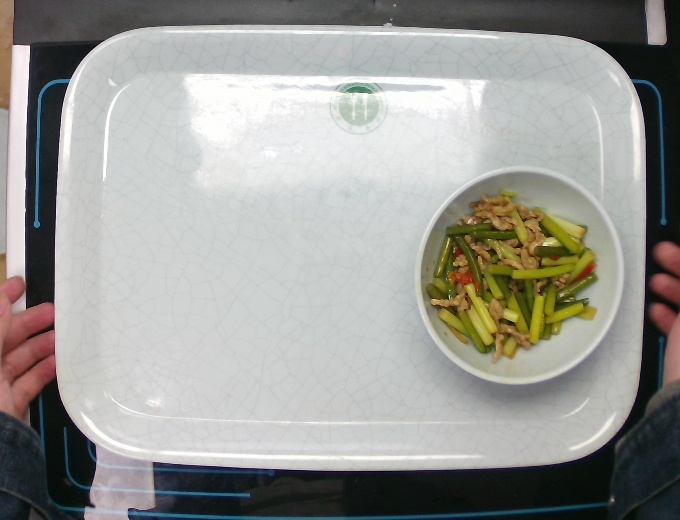JYsf-Fan_Wan: (394, 157, 636, 398)
